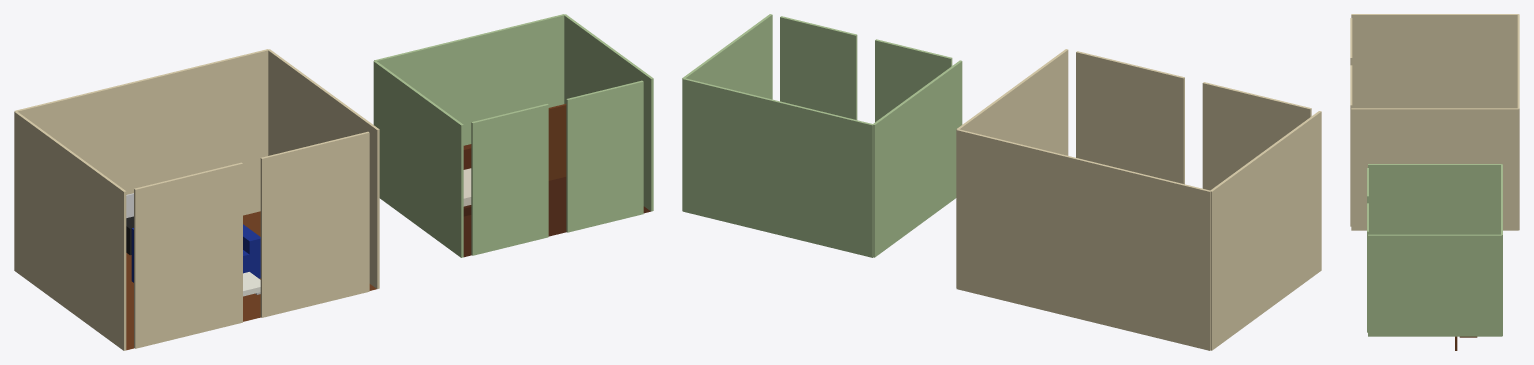
Rendered from boq_professional_6c164866-ffc4-4a96-8622-a63fb4146bcc.obj.
3 views of the same model, side by side, from view 1: azimuth 30°, elevation 25°; view 2: azimuth 150°, elevation 25°; view 3: azimuth 270°, elevation 25° (orthographic). The views are drawn at different scales.
Parts seen in each view (by area): view 1: BackWall_modern_living_room, LeftWall_modern_living_room, FrontWallRight_modern_living_room, FrontWallLeft_modern_living_room, BackWall_master_bedroom, LeftWall_master_bedroom, FrontWallLeft_master_bedroom, FrontWallRight_master_bedroom, RightWall_modern_living_room, RightWall_master_bedroom, Floor_modern_living_room, Floor_master_bedroom (+3 smaller); view 2: BackWall_modern_living_room, BackWall_master_bedroom, LeftWall_modern_living_room, LeftWall_master_bedroom, FrontWallRight_modern_living_room, FrontWallLeft_modern_living_room, FrontWallRight_master_bedroom, RightWall_modern_living_room, RightWall_master_bedroom, FrontWallLeft_master_bedroom; view 3: LeftWall_modern_living_room, RightWall_master_bedroom, RightWall_modern_living_room, LeftWall_master_bedroom, BackWall_modern_living_room, FrontWallRight_modern_living_room, BackWall_master_bedroom, FrontWallRight_master_bedroom.
Boxes of the visible parts, x1,y1,x2,y2 form: BackWall_modern_living_room: (14,49,268,215); LeftWall_modern_living_room: (14,111,126,350); FrontWallRight_modern_living_room: (260,131,369,317); FrontWallLeft_modern_living_room: (134,162,242,348); BackWall_master_bedroom: (374,14,564,145); LeftWall_master_bedroom: (373,61,463,257); FrontWallLeft_master_bedroom: (471,104,548,255); FrontWallRight_master_bedroom: (566,80,643,232); RightWall_modern_living_room: (268,49,379,288); RightWall_master_bedroom: (564,14,653,211); Floor_modern_living_room: (126,211,376,350); Floor_master_bedroom: (463,177,650,257); BackWall_modern_living_room: (956,129,1210,350); BackWall_master_bedroom: (682,78,873,257); LeftWall_modern_living_room: (1210,111,1321,350); LeftWall_master_bedroom: (873,60,962,257); FrontWallRight_modern_living_room: (1076,51,1184,184); FrontWallLeft_modern_living_room: (1202,82,1311,190); FrontWallRight_master_bedroom: (780,16,857,119); RightWall_modern_living_room: (956,49,1068,287); RightWall_master_bedroom: (682,14,772,210); FrontWallLeft_master_bedroom: (875,39,952,122); LeftWall_modern_living_room: (1351,14,1518,108); RightWall_master_bedroom: (1368,234,1501,336); RightWall_modern_living_room: (1351,108,1518,230); LeftWall_master_bedroom: (1368,164,1501,234); BackWall_modern_living_room: (1517,14,1519,230); FrontWallRight_modern_living_room: (1350,65,1352,226); BackWall_master_bedroom: (1501,164,1502,336); FrontWallRight_master_bedroom: (1367,203,1368,332).
Bounding box in the file's own units: 42.7 × 14.2 × 15.2.
